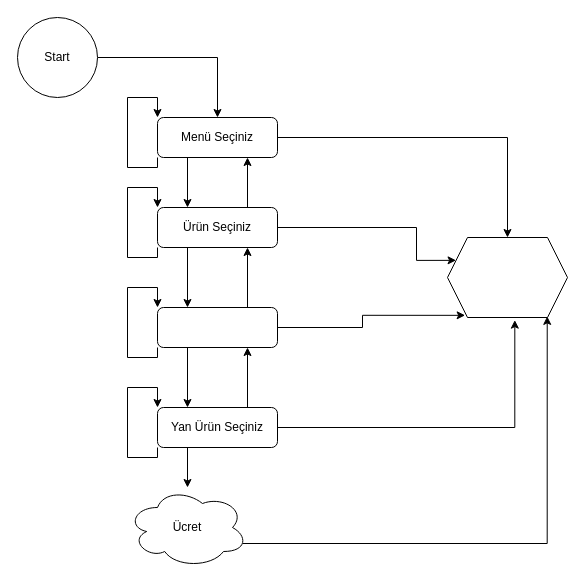
Image size: 585x585. Some labels were removed from this diagram. Each missing label, with the centre of its shape:
İçecek Seçiniz: point 217,327
Stop: point 507,277
